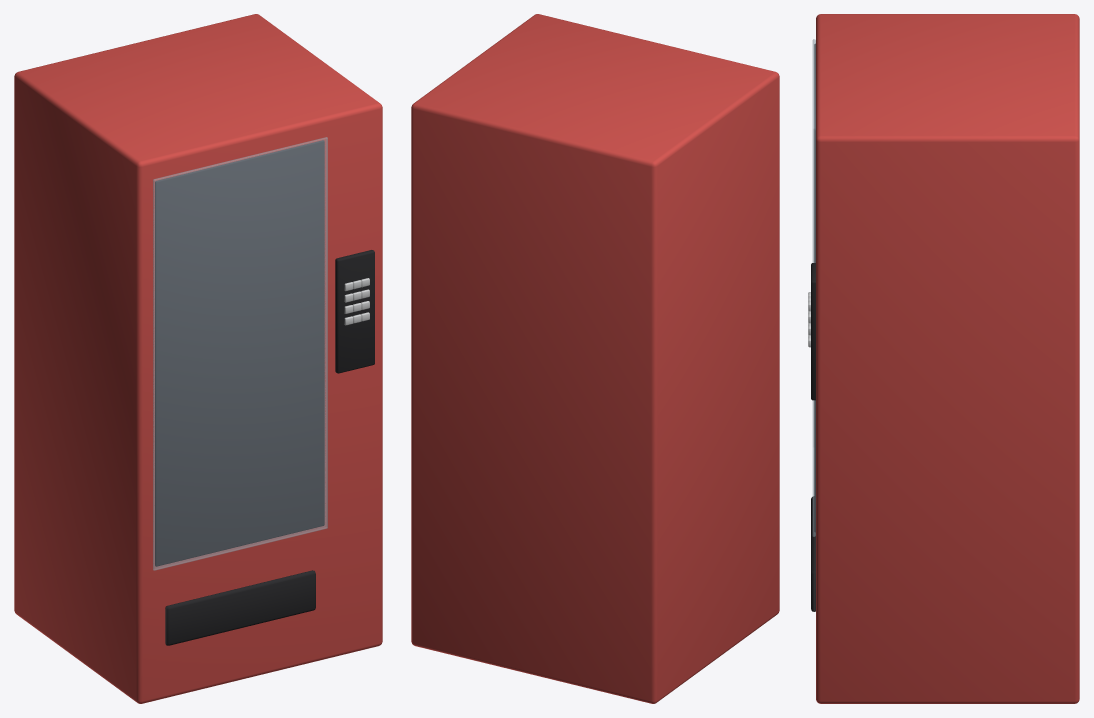
The model's file is vending_machine.glb.
3 views of the same model, side by side, from view 1: azimuth 30°, elevation 25°; view 2: azimuth 150°, elevation 25°; view 3: azimuth 270°, elevation 25° (orthographic). The views are drawn at different scales.
Parts seen in each view (by area): view 1: Cube, Cube.027, Cube.001, Cube.041, Cube.028; view 2: Cube; view 3: Cube, Cube.027, Cube.001, Cube.028, Cube.041.
Boxes of the visible parts, x1=… form: Cube: x1=14, y1=14, x2=382, y2=703; Cube.027: x1=153, y1=137, x2=327, y2=570; Cube.001: x1=155, y1=140, x2=324, y2=566; Cube.041: x1=165, y1=570, x2=315, y2=645; Cube.028: x1=335, y1=250, x2=374, y2=373; Cube: x1=411, y1=14, x2=779, y2=703; Cube: x1=816, y1=14, x2=1079, y2=703; Cube.027: x1=812, y1=39, x2=815, y2=536; Cube.001: x1=814, y1=43, x2=815, y2=532; Cube.028: x1=811, y1=263, x2=815, y2=400; Cube.041: x1=811, y1=496, x2=815, y2=611.
Bounding box in the file's own units: 0.9 × 1.9 × 0.823.
